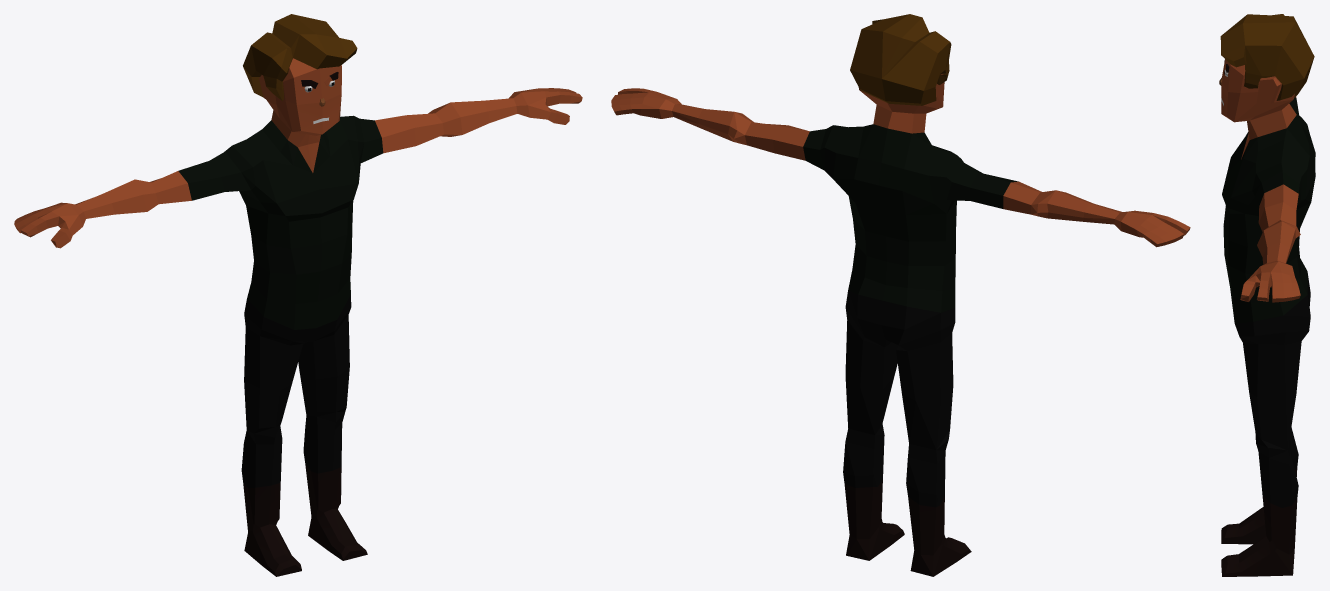
File: CHARAKTER.obj
3 renders of one model, left to right at view 1: azimuth 30°, elevation 25°; view 2: azimuth 150°, elevation 25°; view 3: azimuth 270°, elevation 25°, orthographic.
Visible parts, largest first — view 1: Character_Male_Face_01_Меш, SM_Chr_Attach_Male_Hair_01_Меш.006; view 2: Character_Male_Face_01_Меш, SM_Chr_Attach_Male_Hair_01_Меш.006; view 3: Character_Male_Face_01_Меш, SM_Chr_Attach_Male_Hair_01_Меш.006.
Part boxes in pixels (left/top/right/bottom): Character_Male_Face_01_Меш: left=14, top=58, right=582, bottom=576; SM_Chr_Attach_Male_Hair_01_Меш.006: left=243, top=14, right=357, bottom=100; Character_Male_Face_01_Меш: left=611, top=74, right=1190, bottom=576; SM_Chr_Attach_Male_Hair_01_Меш.006: left=850, top=14, right=951, bottom=105; Character_Male_Face_01_Меш: left=1221, top=59, right=1315, bottom=576; SM_Chr_Attach_Male_Hair_01_Меш.006: left=1220, top=14, right=1314, bottom=100.
Size of the model in its own units: 2.05 by 1.84 by 0.2996.
